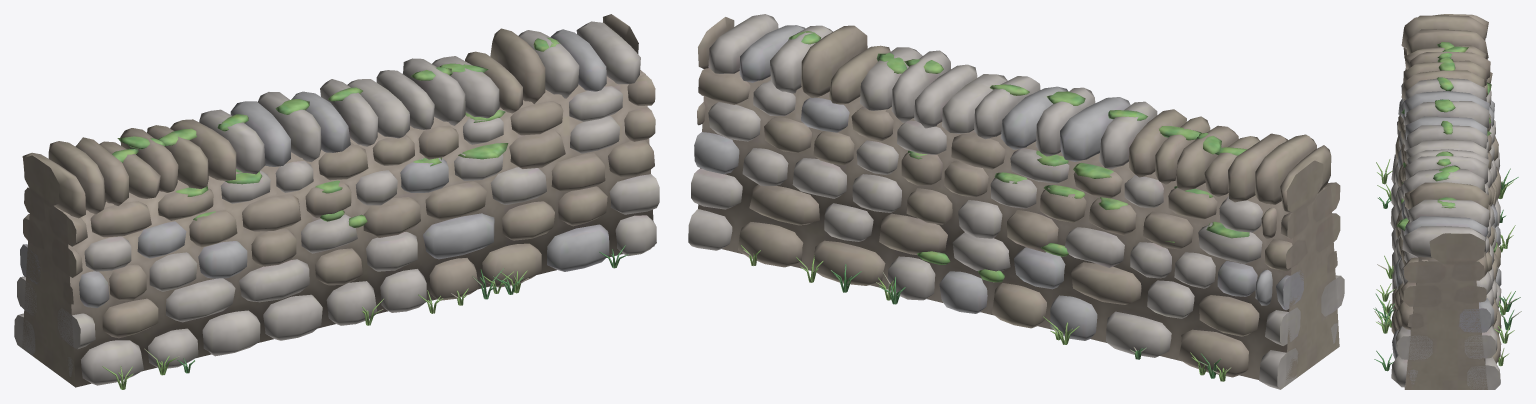
The model's file is grab3d-stone-wall.glb.
3 renders of one model, left to right at view 1: azimuth 30°, elevation 25°; view 2: azimuth 150°, elevation 25°; view 3: azimuth 270°, elevation 25°, orthographic. The views are drawn at different scales.
Parts seen in each view (by area): view 1: stone-wall_body; view 2: stone-wall_body; view 3: stone-wall_body.
Part boxes in pixels (bbox=[...]): stone-wall_body: bbox=[14, 14, 659, 389]; stone-wall_body: bbox=[688, 14, 1344, 389]; stone-wall_body: bbox=[1373, 14, 1521, 389].
Bounding box in the file's own units: 3 × 1.06 × 0.8572.
Materials: 1 (1 with a texture image).
